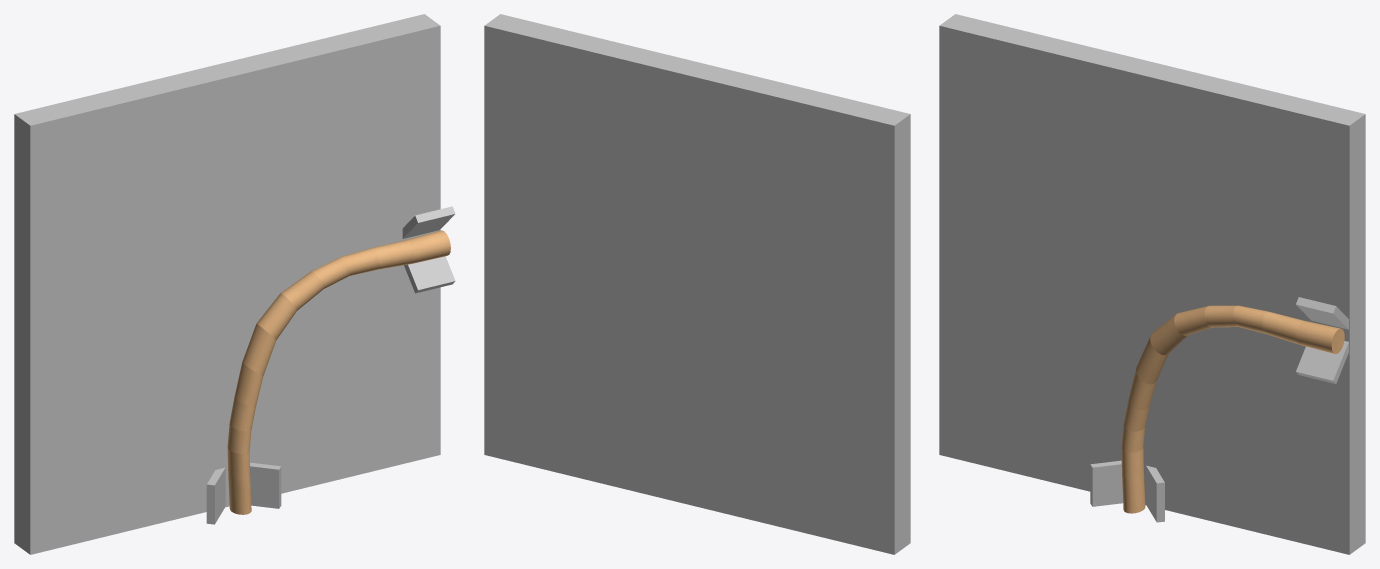
File: Wire_L2.fbx
3 renders of one model, left to right at view 1: azimuth 30°, elevation 25°; view 2: azimuth 150°, elevation 25°; view 3: azimuth 330°, elevation 25°, orthographic.
Visible parts, largest first — view 1: Wire L_2; view 2: Wire L_2; view 3: Wire L_2.
Boxes of the visible parts, bbox=[...] form: Wire L_2: bbox=[14, 14, 455, 554]; Wire L_2: bbox=[484, 14, 910, 554]; Wire L_2: bbox=[939, 14, 1365, 554].
Size of the model in its own units: 200 by 200 by 26.74.
